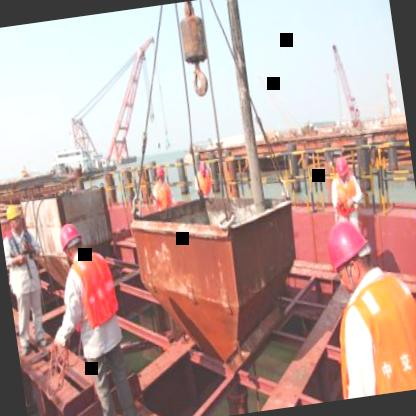helmet: (319, 213, 378, 300), (56, 219, 88, 266), (2, 196, 24, 234), (331, 150, 353, 184), (153, 162, 169, 186)
